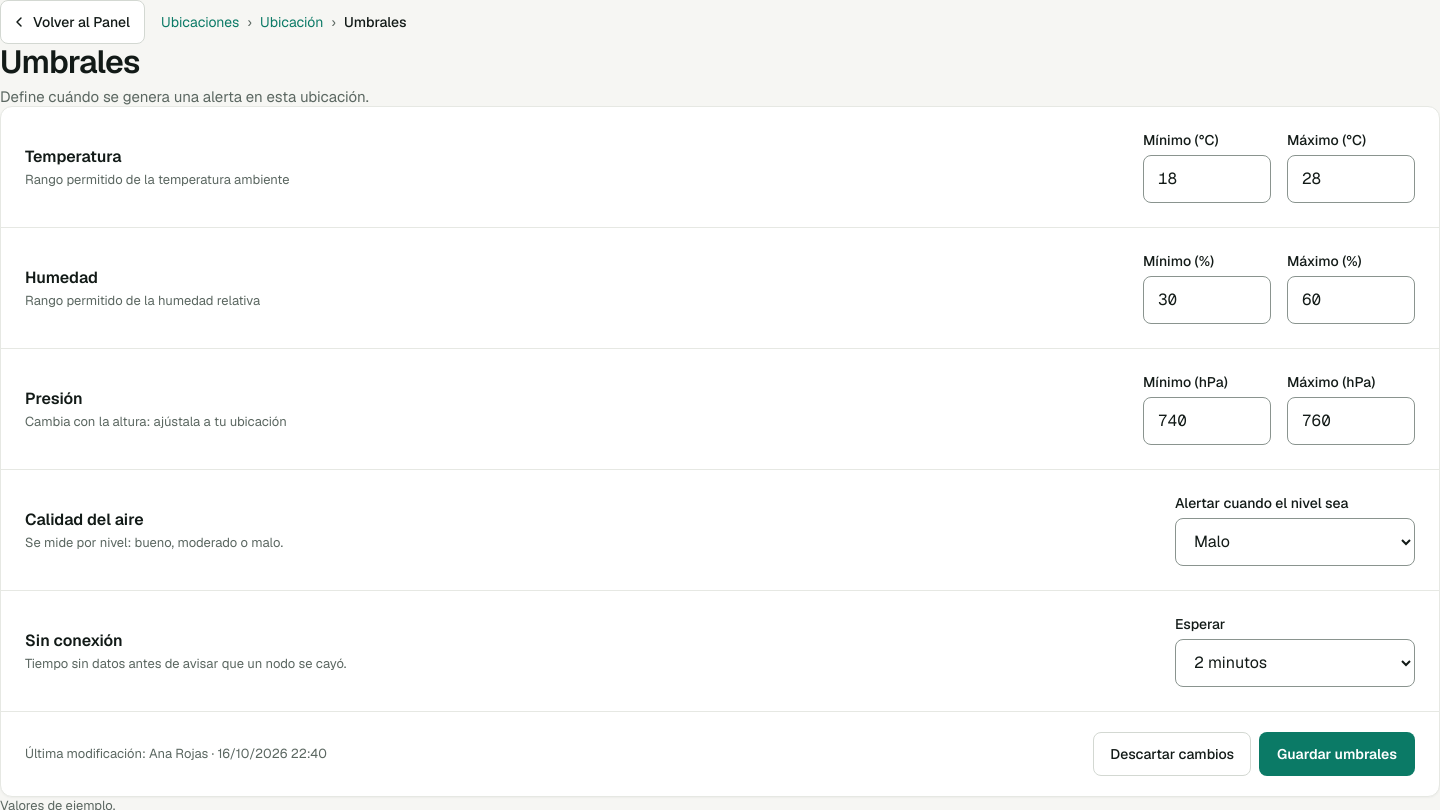
Test case: Umbrales › conserva las ediciones tras un error y permite reintentar
Replace the text in the number field named "Temperatura: mínimo (°C)" with "20" at (1207, 179), box [1143,155,1271,203]
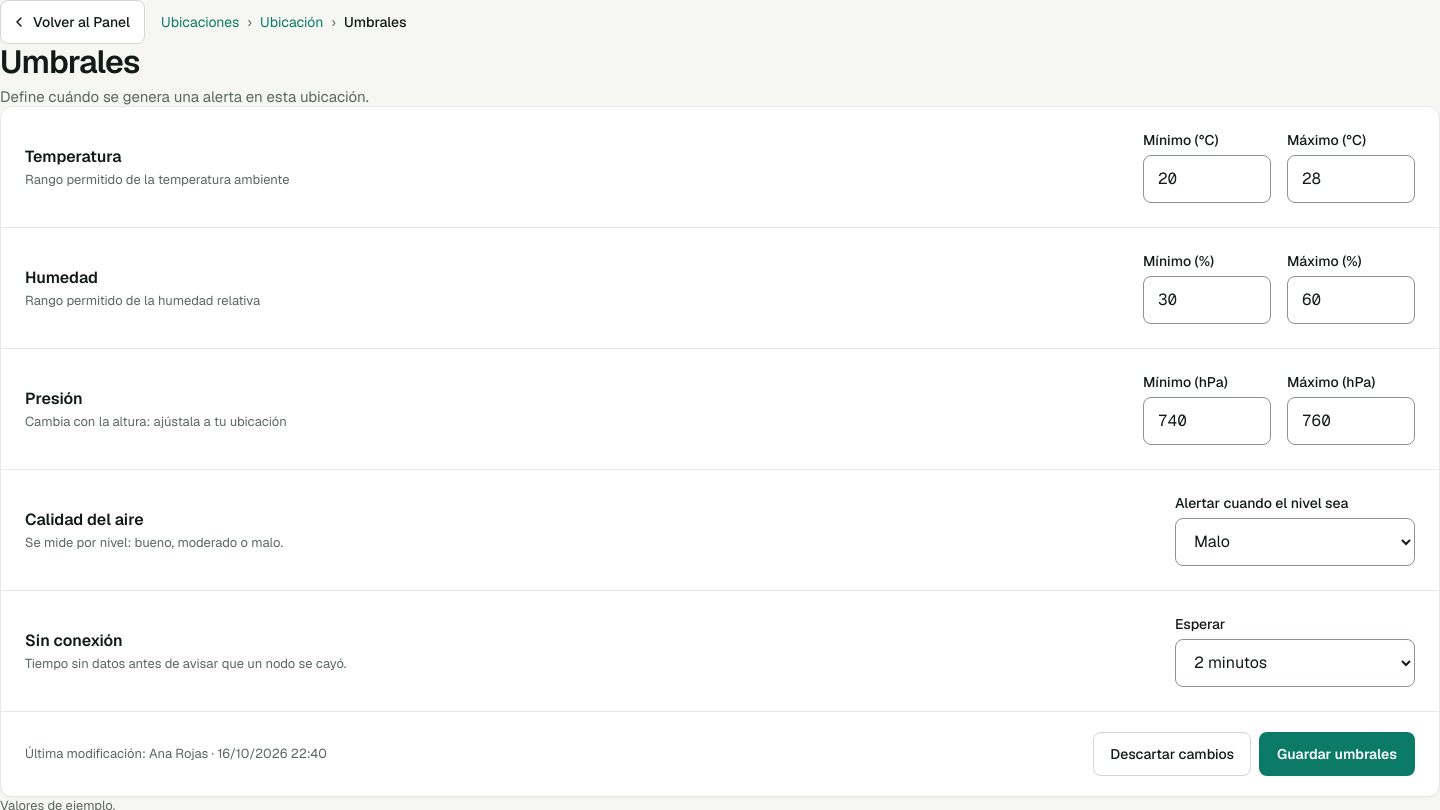
Click the button "Guardar umbrales" at (1337, 754), box [1259,732,1415,776]
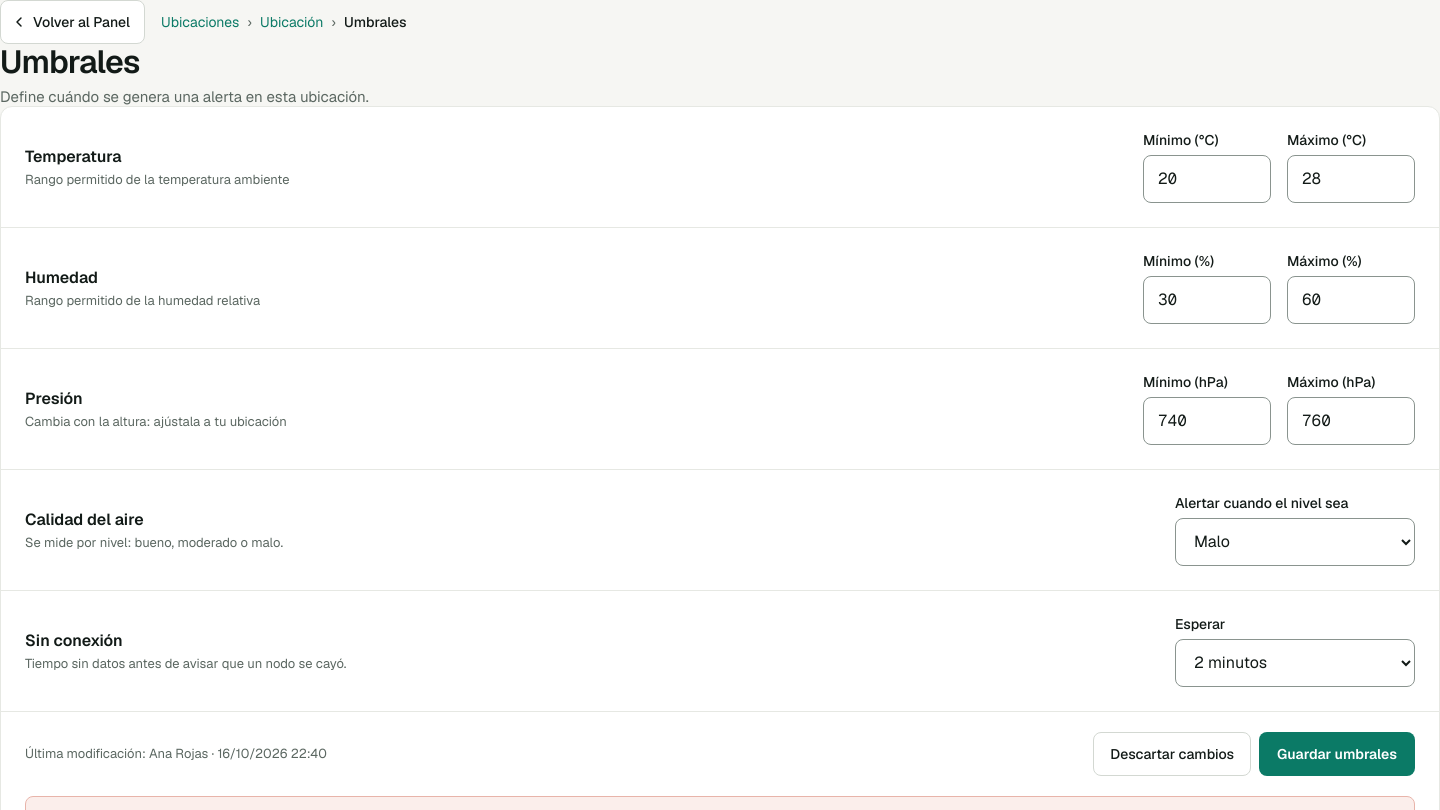
Click the button "Guardar umbrales" at (1337, 754), box [1259,732,1415,776]
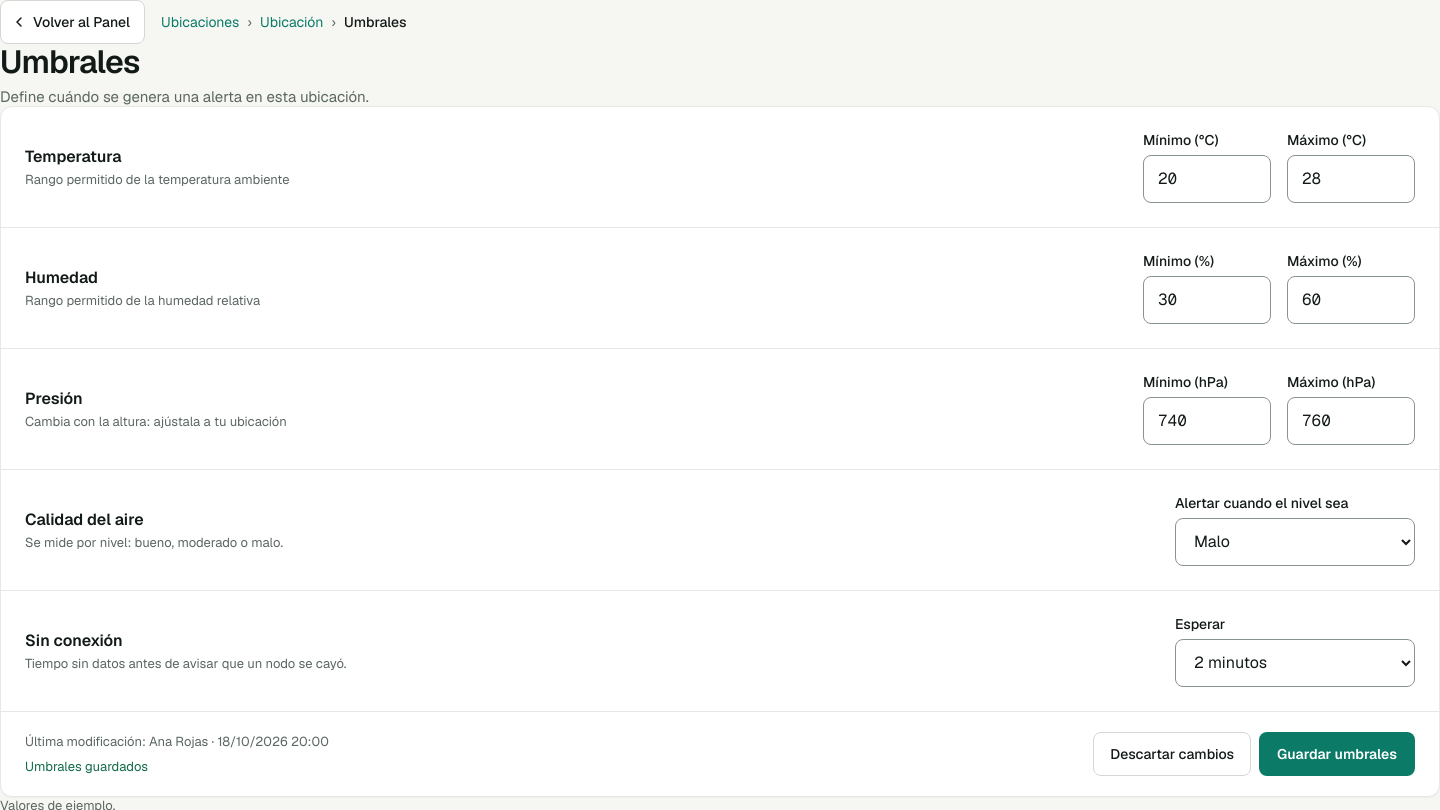
Expected: the text "Umbrales guardados" is shown, [25,758,148,775]
